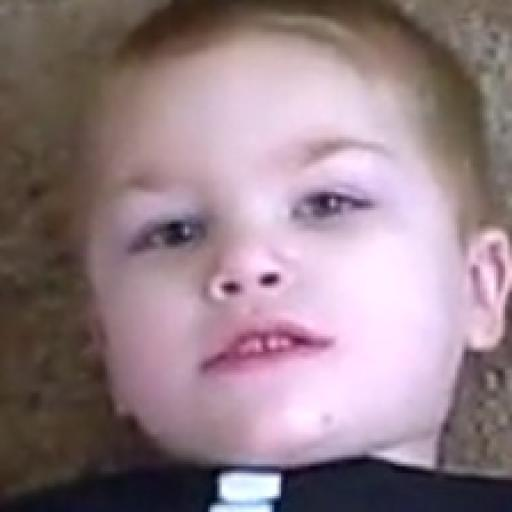Autism: (56, 22, 512, 462)
